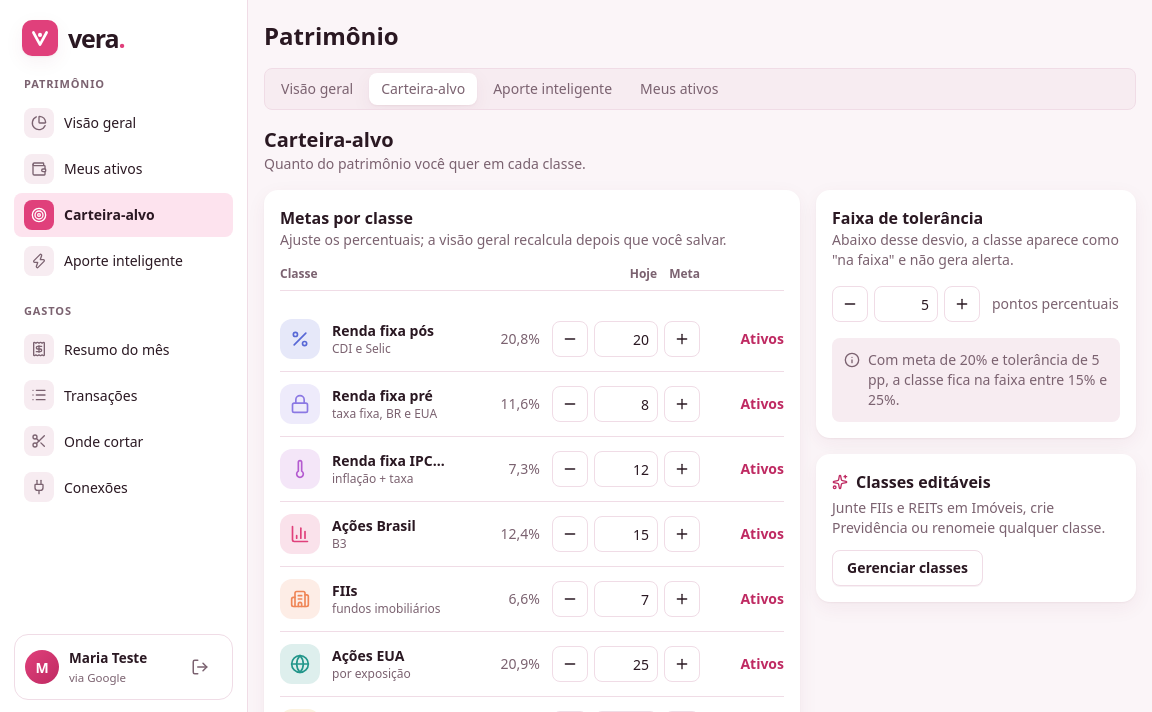
Test: carteira-alvo: faixa de tolerância › o passo grava de meio em meio ponto
Click the button named "Aumentar tolerância". click: [962, 304]
box: [944, 286, 980, 322]
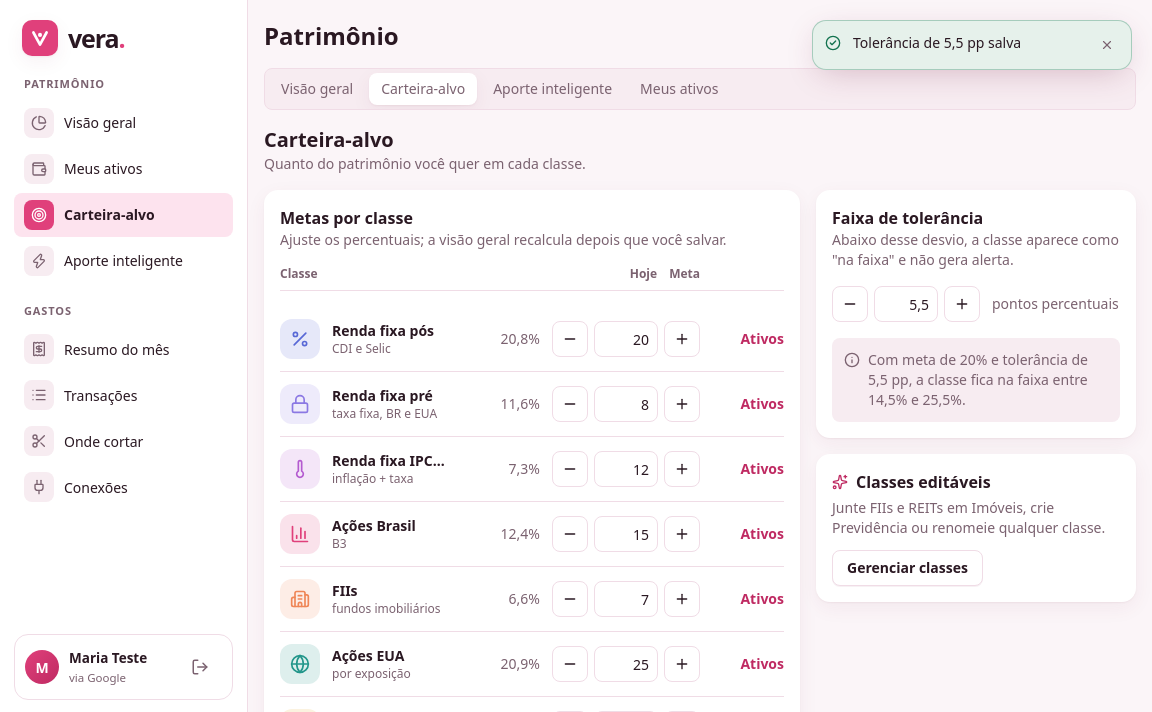
Result: the text "Tolerância de 5,5 pp salva" is shown at [853, 33, 1021, 53]
